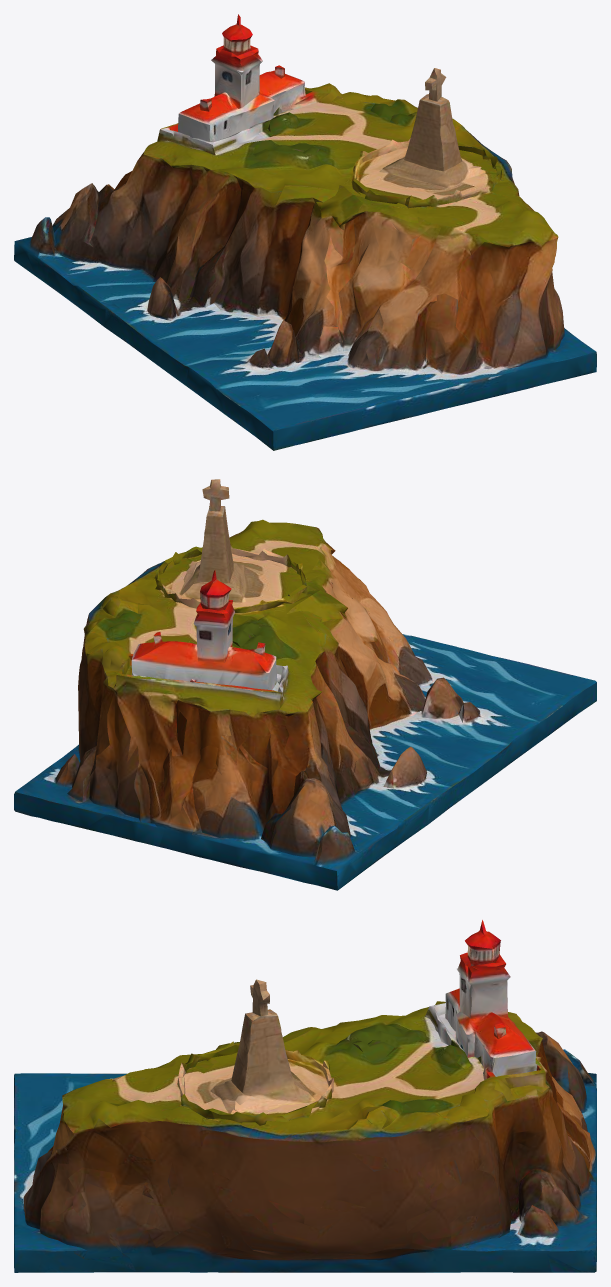
Rendered from cabo-da-roca.glb.
3 renders of one model, top to bottom at view 1: azimuth 30°, elevation 25°; view 2: azimuth 150°, elevation 25°; view 3: azimuth 270°, elevation 25°, orthographic. The views are drawn at different scales.
Parts seen in each view (by area): view 1: logan-textured.obj; view 2: logan-textured.obj; view 3: logan-textured.obj.
Boxes of the visible parts, x1,y1,x2,y2 form: logan-textured.obj: (14, 14, 596, 450); logan-textured.obj: (14, 479, 596, 890); logan-textured.obj: (14, 920, 596, 1272).
Bounding box in the file's own units: 0.7634 × 0.5146 × 1.
Materials: 1 (1 with a texture image).
